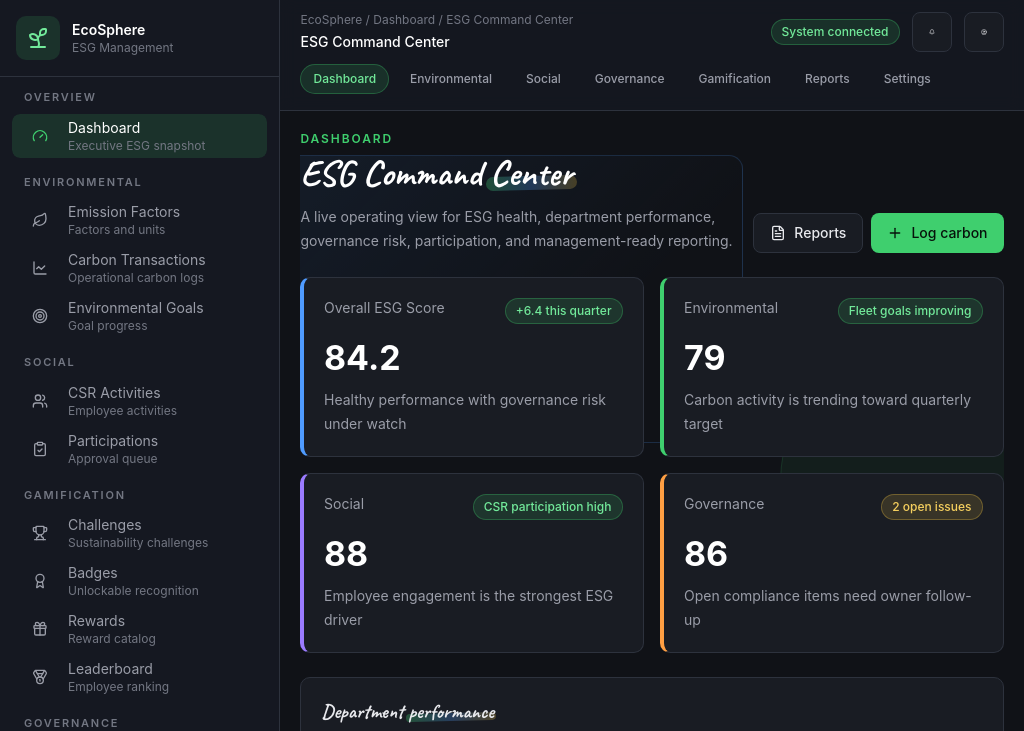
Test: App › traps modal focus, closes with Escape, and restores focus
Expected: the heading "ESG Command Center" is shown, 300,152 -> 573,196
Click the button named "Open profile menu" at (984, 32), box 964,12 -> 1004,52
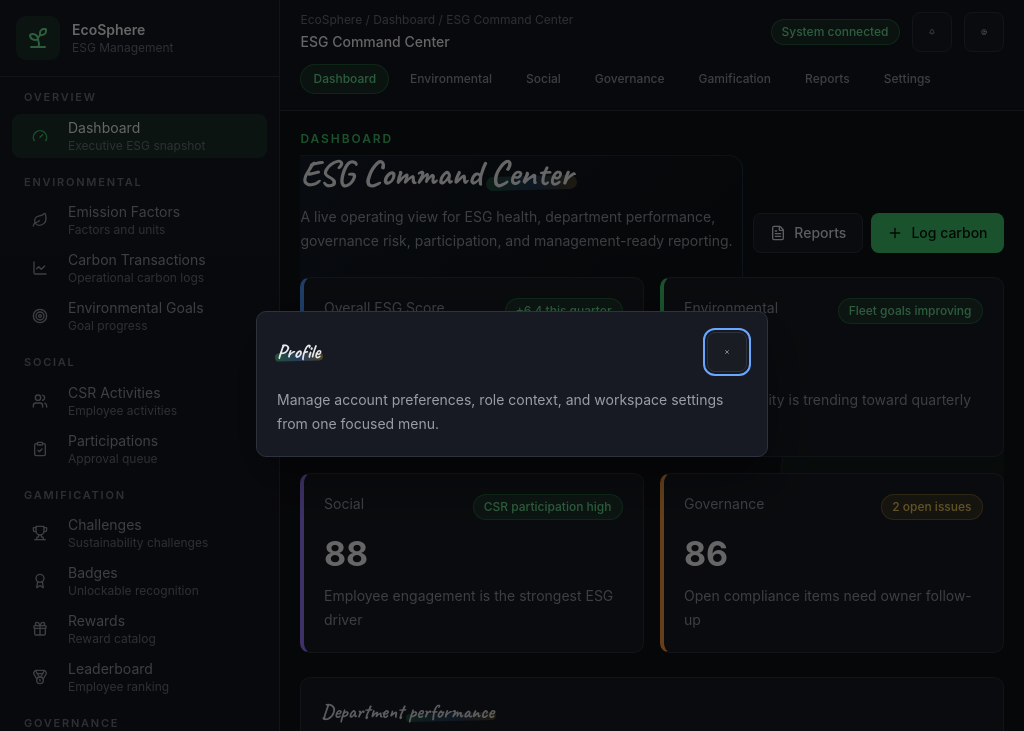
Press Tab
Press Shift+Tab
Press Escape
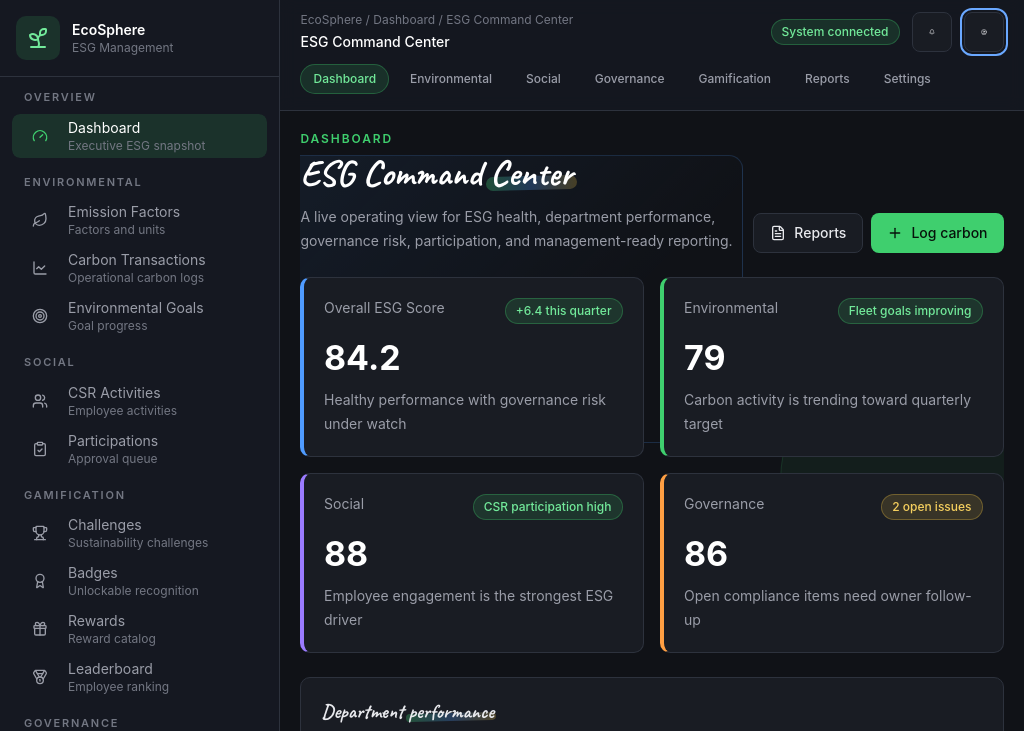
Expected: the text "Profile" is gone
